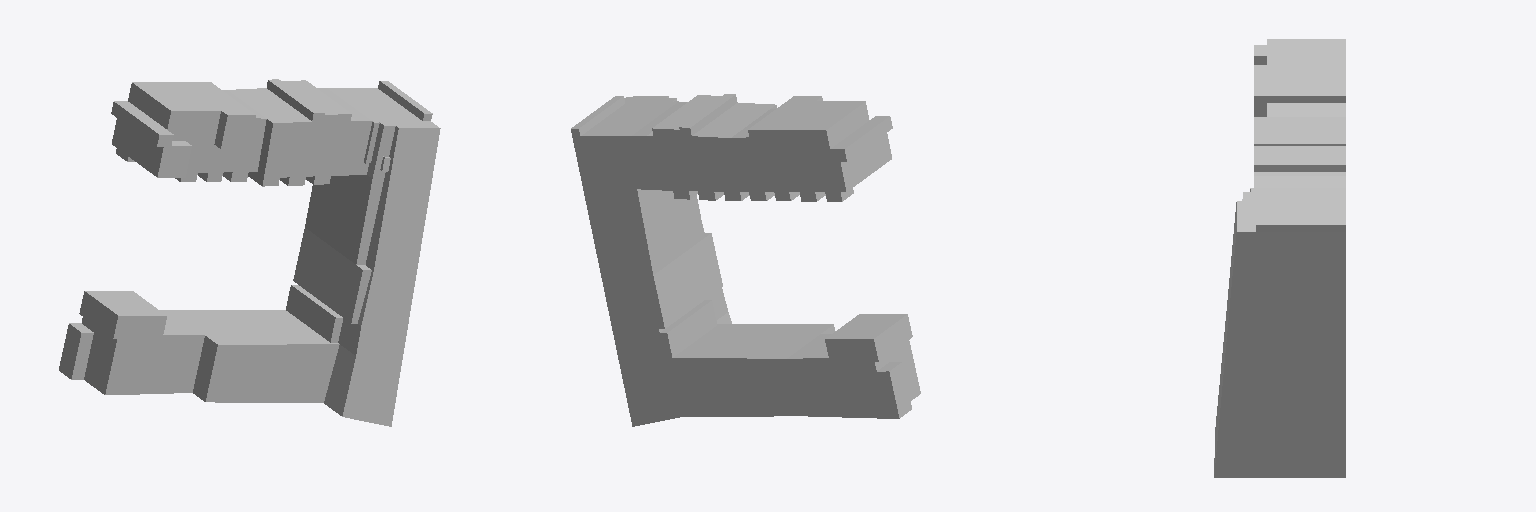
File: talo_Build0000050.obj
3 views of the same model, side by side, from view 1: azimuth 30°, elevation 25°; view 2: azimuth 150°, elevation 25°; view 3: azimuth 270°, elevation 25° (orthographic).
Size of the model in its own units: 88.95 by 88.85 by 30.82.